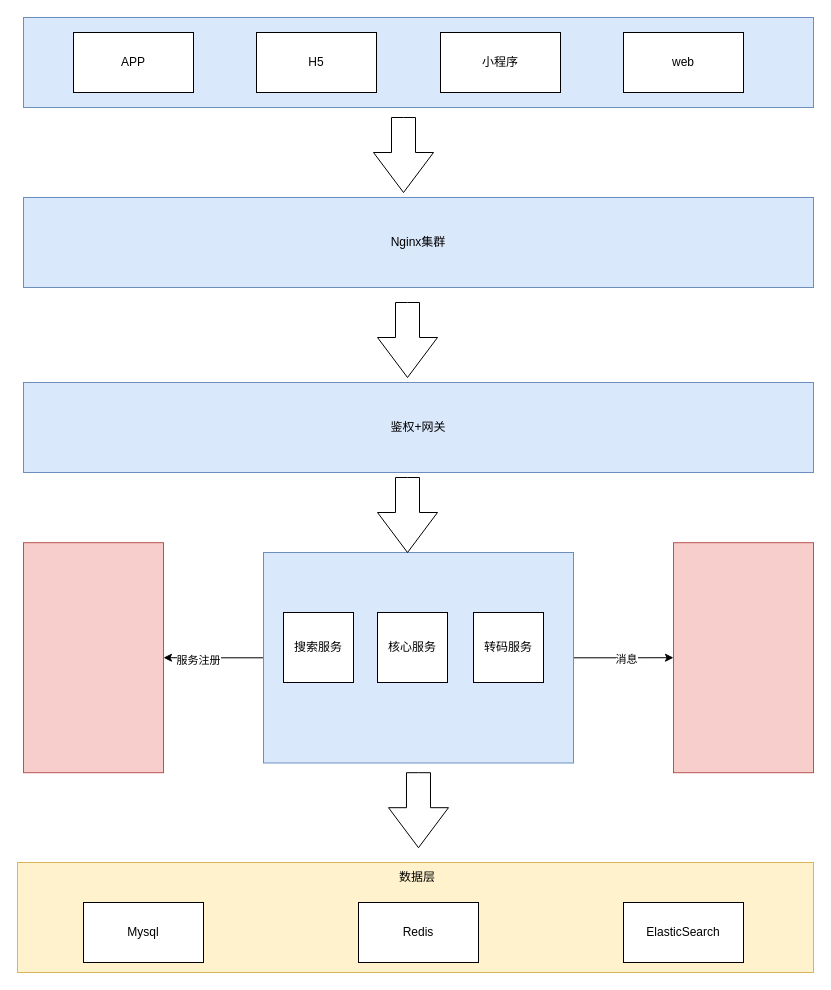
This 831x990 diagram has some shape labels left out. Here are the shapes that lost their labels. From the top down, the box of each, then its label:
(22, 542, 164, 773): 配置注册中心 Nacos
(672, 542, 814, 773): 消息中间件 RocketMQ
